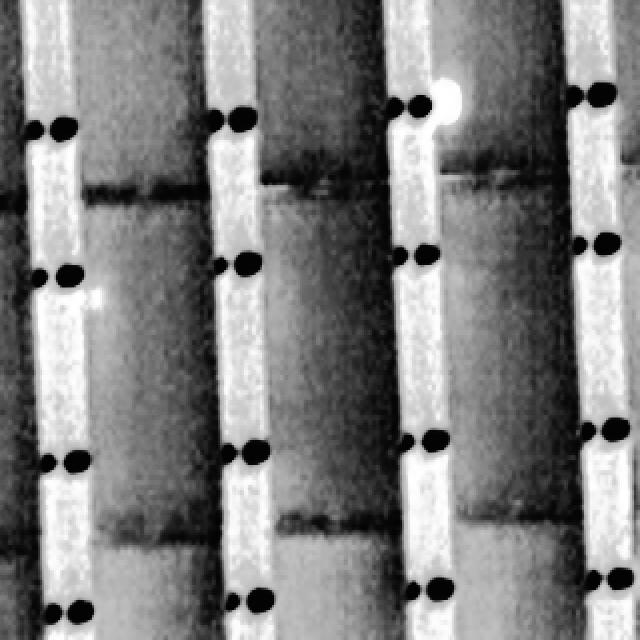Hotspots: (427, 74, 478, 140), (80, 273, 126, 328)
PV-modules: (260, 171, 407, 529), (436, 163, 582, 522), (76, 191, 219, 543), (61, 0, 211, 200), (429, 0, 573, 178), (252, 0, 387, 187), (450, 517, 592, 640), (271, 532, 407, 640), (0, 201, 39, 553), (90, 541, 226, 639), (0, 542, 41, 640)
